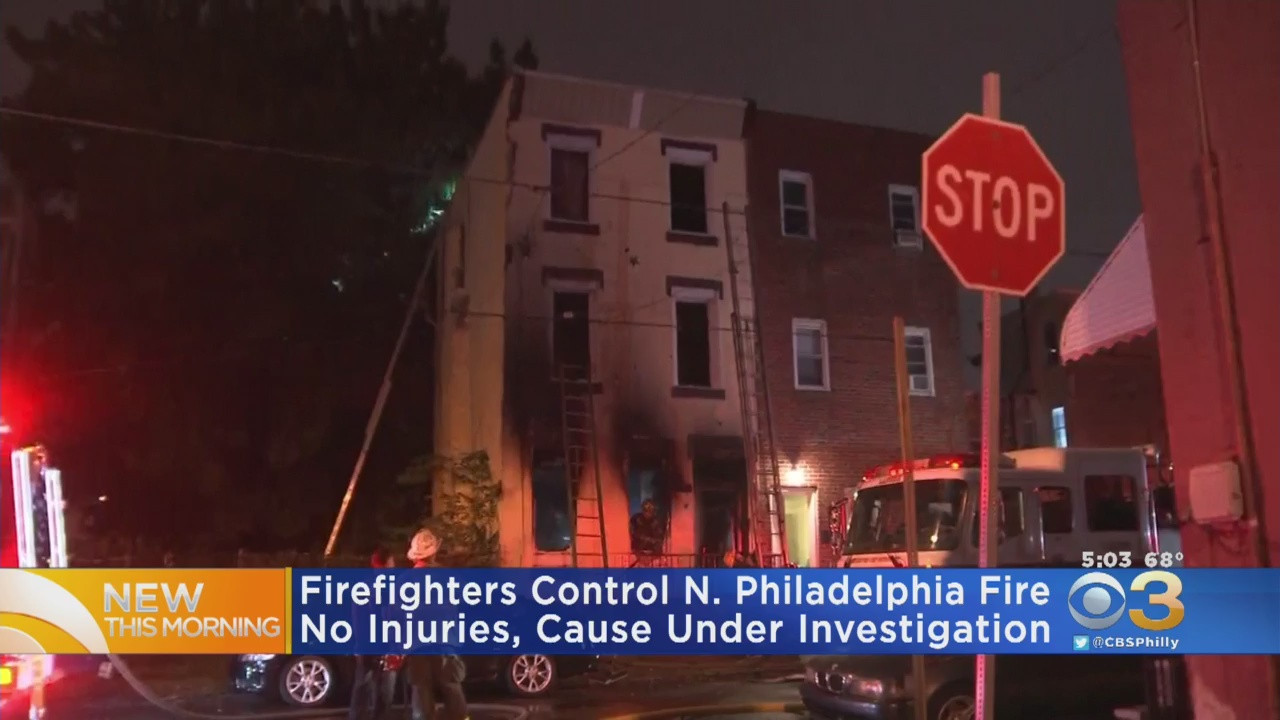stop: (923, 118, 1062, 296), (944, 118, 1065, 276), (921, 170, 1065, 295), (924, 117, 999, 237)
